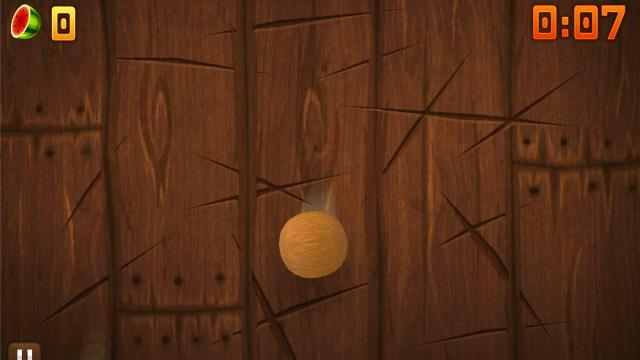fruit: (277, 210, 349, 278)
ignore: (8, 3, 44, 41)
